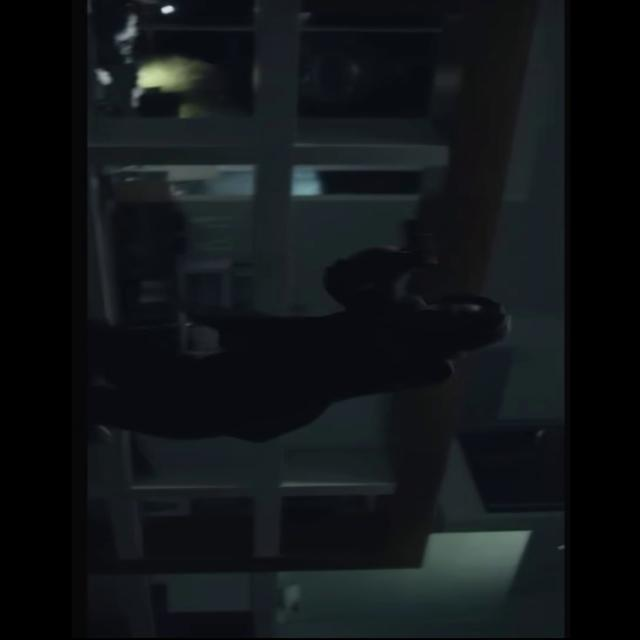weapons: (343, 212, 467, 276)
